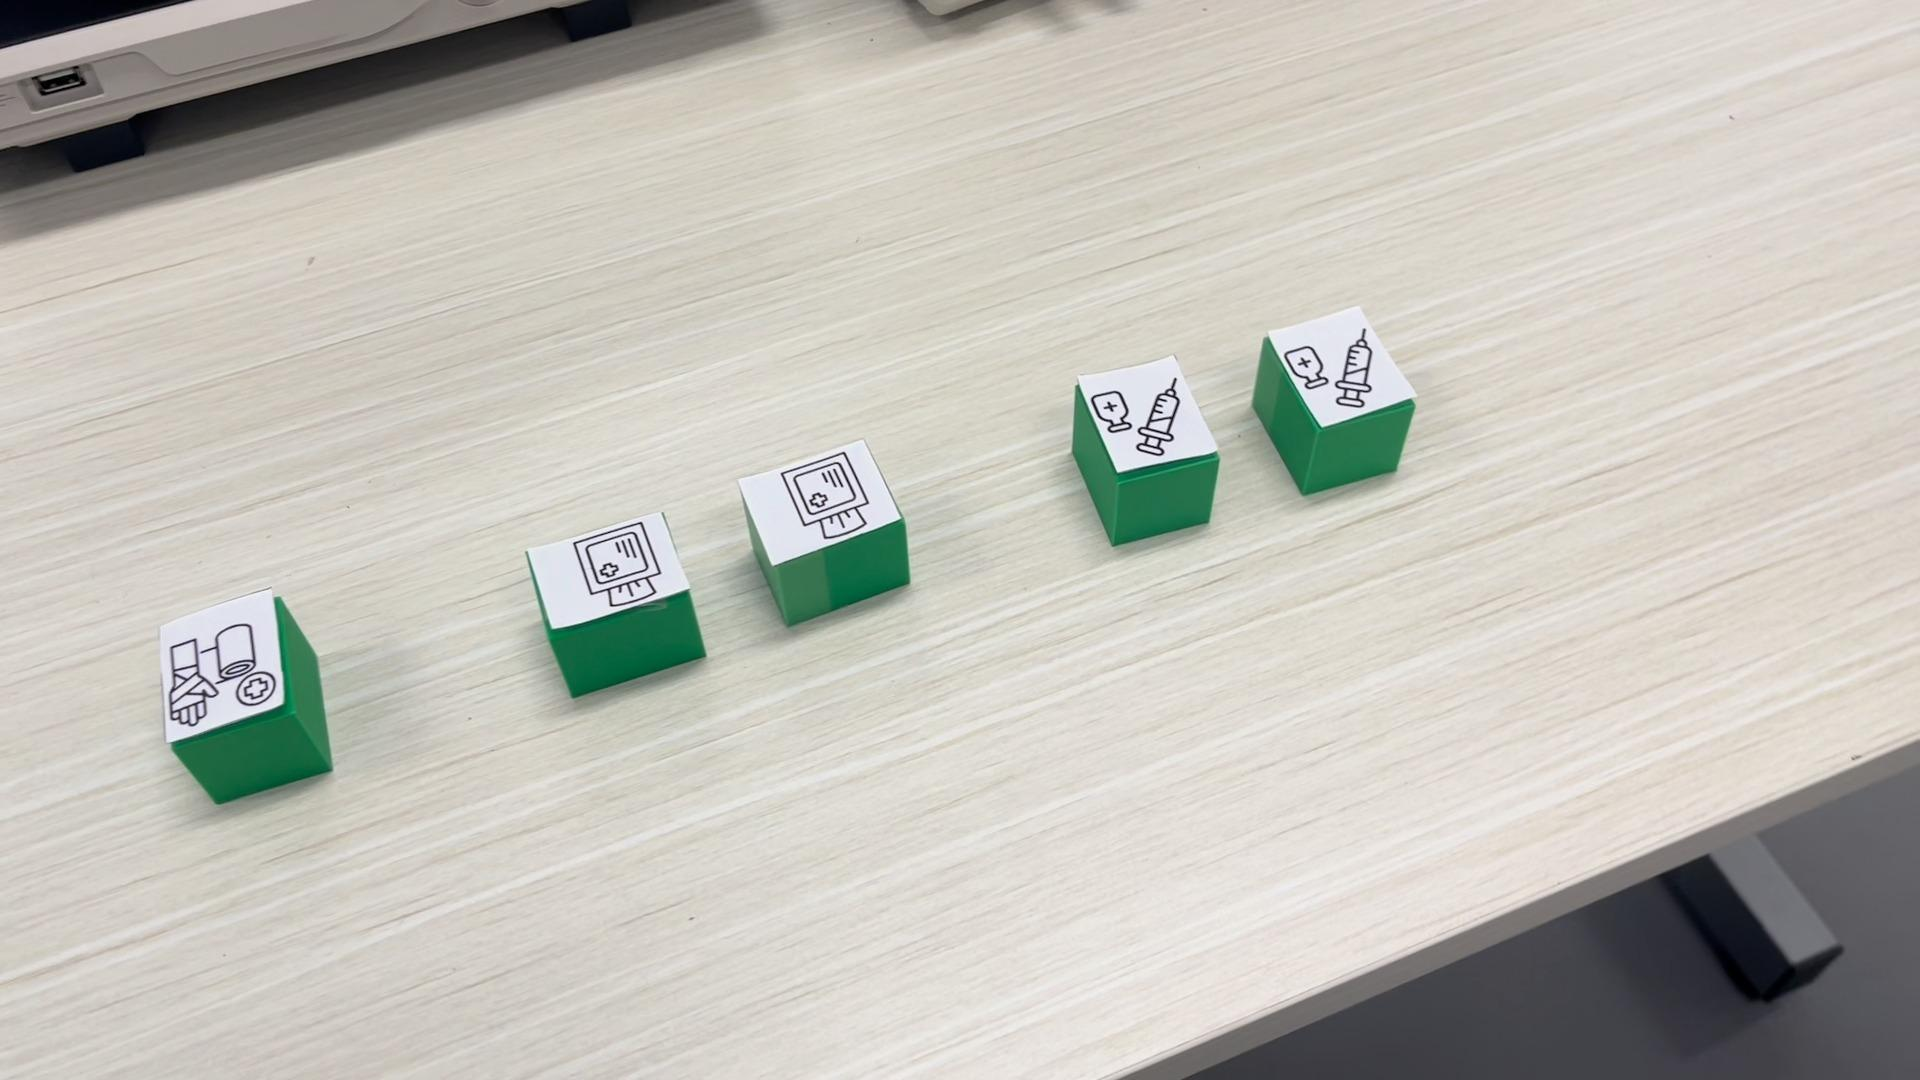Bandages: (156, 585, 332, 804)
Gauze: (522, 510, 705, 698), (736, 436, 913, 625)
antiseptic cream: (1250, 302, 1416, 495), (1068, 355, 1218, 545)
